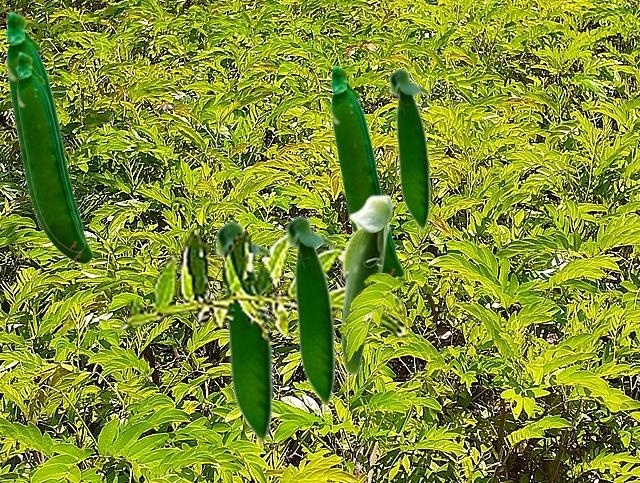pea: (4, 10, 92, 263), (329, 64, 403, 276), (15, 51, 84, 251), (213, 219, 273, 448), (284, 214, 335, 410), (340, 194, 393, 375), (387, 67, 430, 234)
